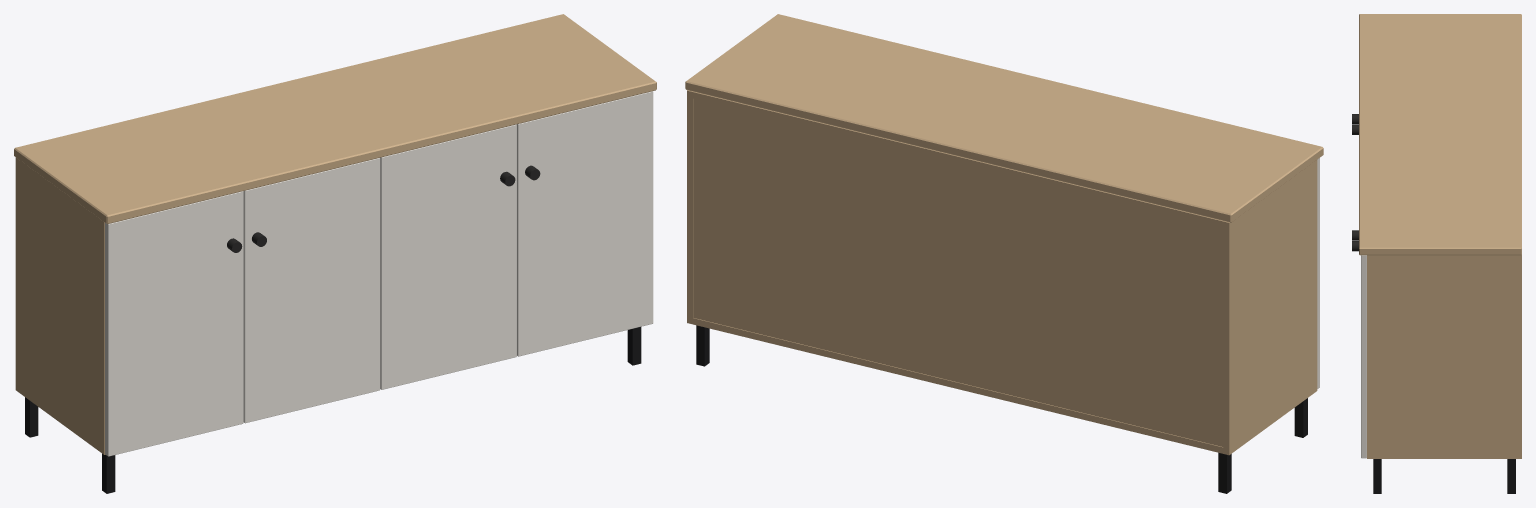
The model's file is 25_komoda_160_4d.glb.
The picture shows the model from 3 angles, left to right: view 1: azimuth 30°, elevation 25°; view 2: azimuth 150°, elevation 25°; view 3: azimuth 270°, elevation 25°; orthographic projection. The views are drawn at different scales.
Visible parts, largest first — view 1: Wierzch, Front_drzwi_1, Front_drzwi_2, Front_drzwi_3, Front_drzwi_4, Korpus, Nogi, Uchwyty; view 2: Korpus, Wierzch, Nogi, Front_drzwi_1; view 3: Wierzch, Korpus, Front_drzwi_4, Nogi, Uchwyty.
Boxes of the visible parts, box(x1,y1,x2,y2) form: Wierzch: box(14, 14, 656, 224); Front_drzwi_1: box(105, 191, 243, 456); Front_drzwi_2: box(243, 158, 380, 423); Front_drzwi_3: box(380, 124, 516, 389); Front_drzwi_4: box(517, 91, 653, 356); Korpus: box(15, 157, 105, 454); Nogi: box(25, 327, 641, 493); Uchwyty: box(227, 165, 540, 252); Korpus: box(687, 90, 1317, 455); Wierzch: box(685, 14, 1323, 222); Nogi: box(696, 325, 1307, 493); Front_drzwi_1: box(1317, 158, 1319, 388); Wierzch: box(1359, 14, 1521, 255); Korpus: box(1367, 254, 1521, 458); Front_drzwi_4: box(1361, 255, 1366, 458); Nogi: box(1373, 459, 1515, 493); Uchwyty: box(1352, 114, 1358, 251).
Bounding box in the file's own units: 1.61 × 0.8 × 0.494.
